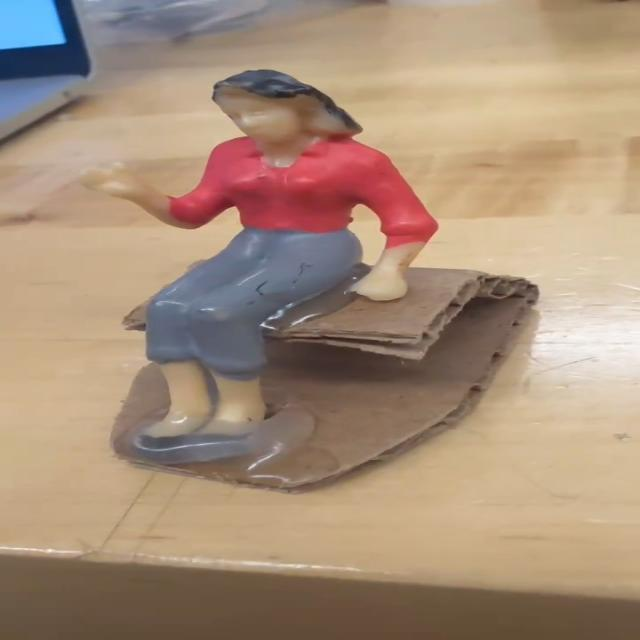Authorized: (80, 70, 435, 464)
